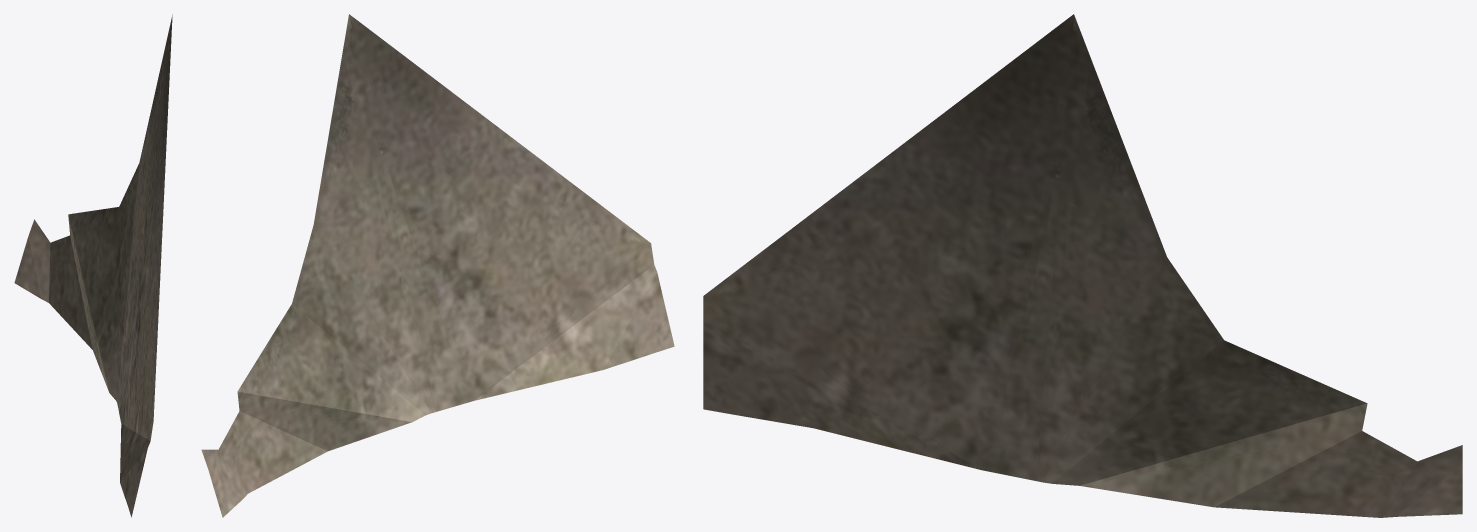
The picture shows the model from 3 angles, left to right: view 1: azimuth 30°, elevation 25°; view 2: azimuth 150°, elevation 25°; view 3: azimuth 270°, elevation 25°; orthographic projection. The views are drawn at different scales.
Bounding box in the file's own units: 2.18 × 4.4 × 5.9.
Materials: 1 (1 with a texture image).
